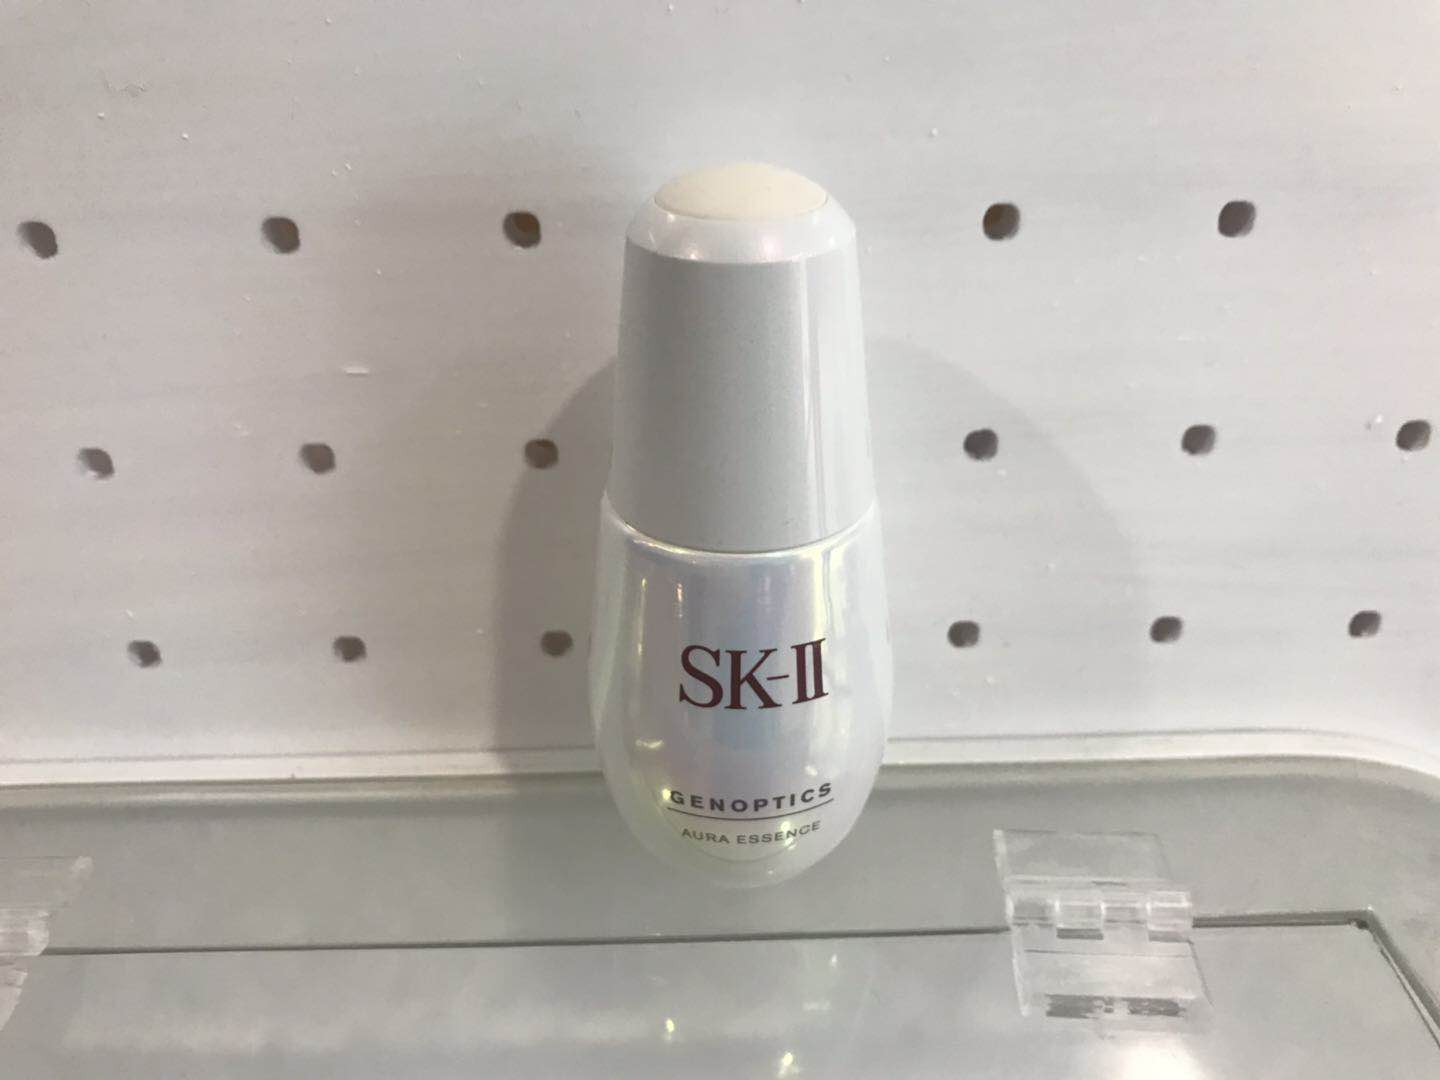sk2: (566, 138, 914, 916)
